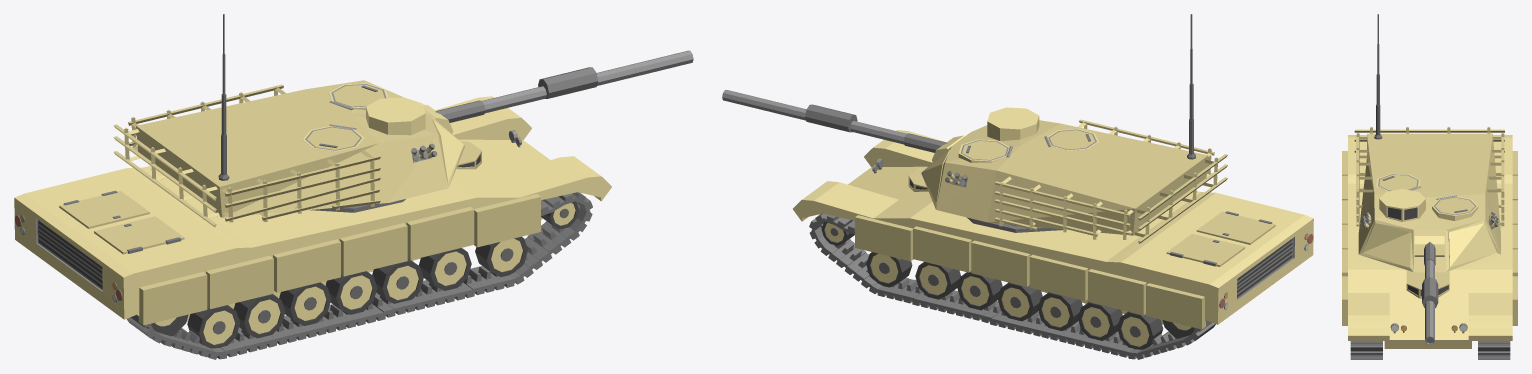
The model's file is kar7.fbx.
3 renders of one model, left to right at view 1: azimuth 30°, elevation 25°; view 2: azimuth 150°, elevation 25°; view 3: azimuth 270°, elevation 25°, orthographic. The views are drawn at different scales.
Visible parts, largest first — view 1: Boole_8, Cylinder_2, Cylinder_15, Cylinder_2_3, Cylinder_4, Cylinder_2_2, Cylinder_1, Cylinder_5, Cylinder_3, Cylinder_6, Cylinder_9; view 2: Boole_8, Cylinder_2, Cylinder_15, Cylinder_3_2, Cylinder_2_5, Cylinder_1_3, Cylinder_2_4, Cylinder_4_2, Cylinder_5_2, Cylinder_6_2, Cylinder_9_2; view 3: Cylinder_2, Boole_8, Cylinder_15, Boole_90, Boole_90_2, Boole_91, Boole_89, Boole_91_2, Boole_89_2.
Part boxes in pixels (box(x1,y1,x2,y2)): Boole_8: box(14, 96, 611, 325); Cylinder_2: box(113, 14, 465, 227); Cylinder_15: box(423, 50, 693, 133); Cylinder_2_3: box(187, 305, 240, 348); Cylinder_4: box(372, 258, 423, 303); Cylinder_2_2: box(234, 294, 285, 338); Cylinder_1: box(279, 282, 331, 325); Cylinder_5: box(418, 248, 471, 290); Cylinder_3: box(325, 271, 377, 314); Cylinder_6: box(475, 236, 527, 276); Cylinder_9: box(541, 201, 579, 229); Boole_8: box(793, 130, 1313, 329); Cylinder_2: box(921, 14, 1227, 243); Cylinder_15: box(722, 90, 964, 162); Cylinder_3_2: box(997, 282, 1042, 321); Cylinder_2_5: box(1117, 311, 1163, 349); Cylinder_1_3: box(1037, 292, 1082, 330); Cylinder_2_4: box(1077, 302, 1122, 340); Cylinder_4_2: box(957, 271, 1002, 310); Cylinder_5_2: box(915, 262, 960, 299); Cylinder_6_2: box(866, 252, 912, 287); Cylinder_9_2: box(821, 221, 854, 245); Cylinder_2: box(1354, 14, 1504, 272); Boole_8: box(1342, 135, 1517, 348); Cylinder_15: box(1414, 236, 1444, 345); Boole_90: box(1350, 343, 1382, 351); Boole_90_2: box(1478, 343, 1510, 351); Boole_91: box(1350, 341, 1382, 345); Boole_89: box(1350, 351, 1382, 355); Boole_91_2: box(1478, 341, 1510, 345); Boole_89_2: box(1478, 351, 1510, 355).
Bounding box in the file's own units: 1162 × 584 × 378.
